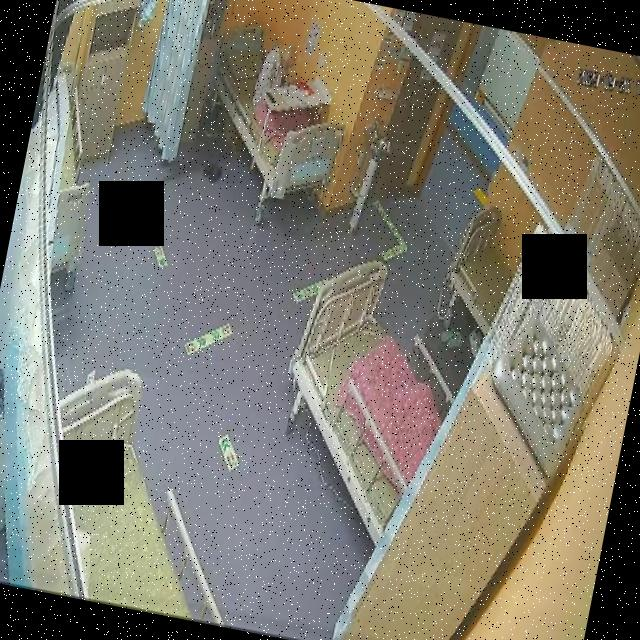bed: (22, 356, 268, 628), (265, 252, 468, 548), (193, 22, 360, 208), (437, 202, 525, 340)
patient: (250, 36, 299, 116)
sit: (248, 36, 300, 117)
